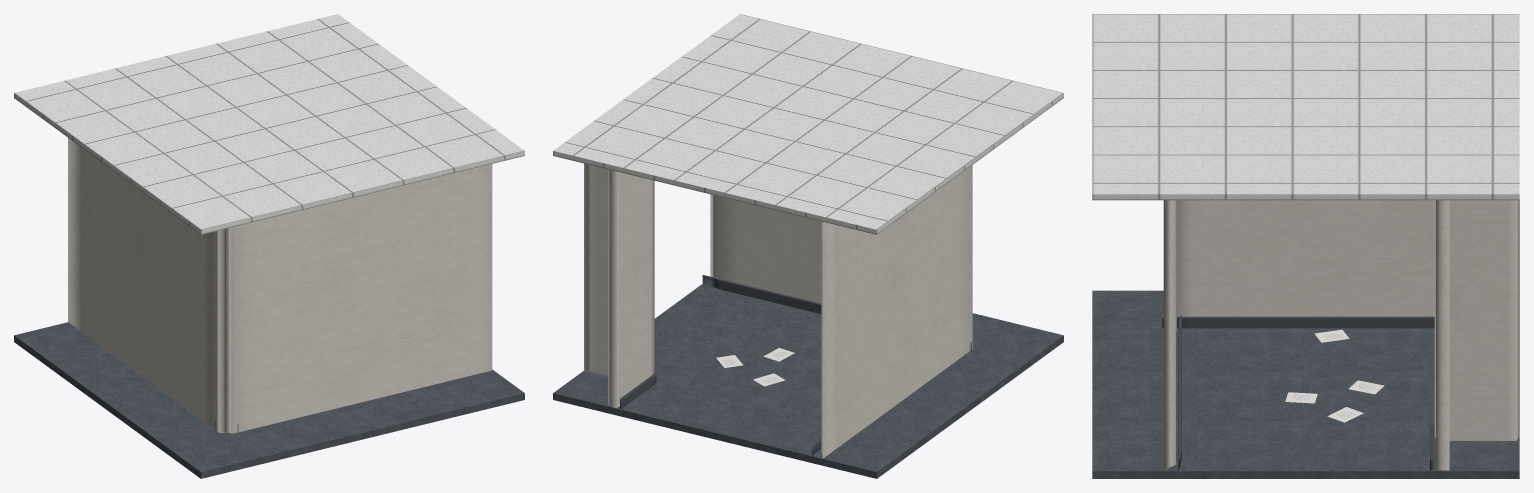
File: hallway_corner.glb
The picture shows the model from 3 angles, left to right: view 1: azimuth 30°, elevation 25°; view 2: azimuth 150°, elevation 25°; view 3: azimuth 270°, elevation 25°; orthographic projection. The views are drawn at different scales.
Parts seen in each view (by area): view 1: Hallway_Corner; view 2: Hallway_Corner; view 3: Hallway_Corner.
Boxes of the visible parts, x1,y1,x2,y2 form: Hallway_Corner: (14,14,524,478); Hallway_Corner: (553,14,1063,478); Hallway_Corner: (1092,14,1519,478).
Size of the model in its own units: 4 by 2.94 by 4.
Materials: 7 (5 with a texture image).
